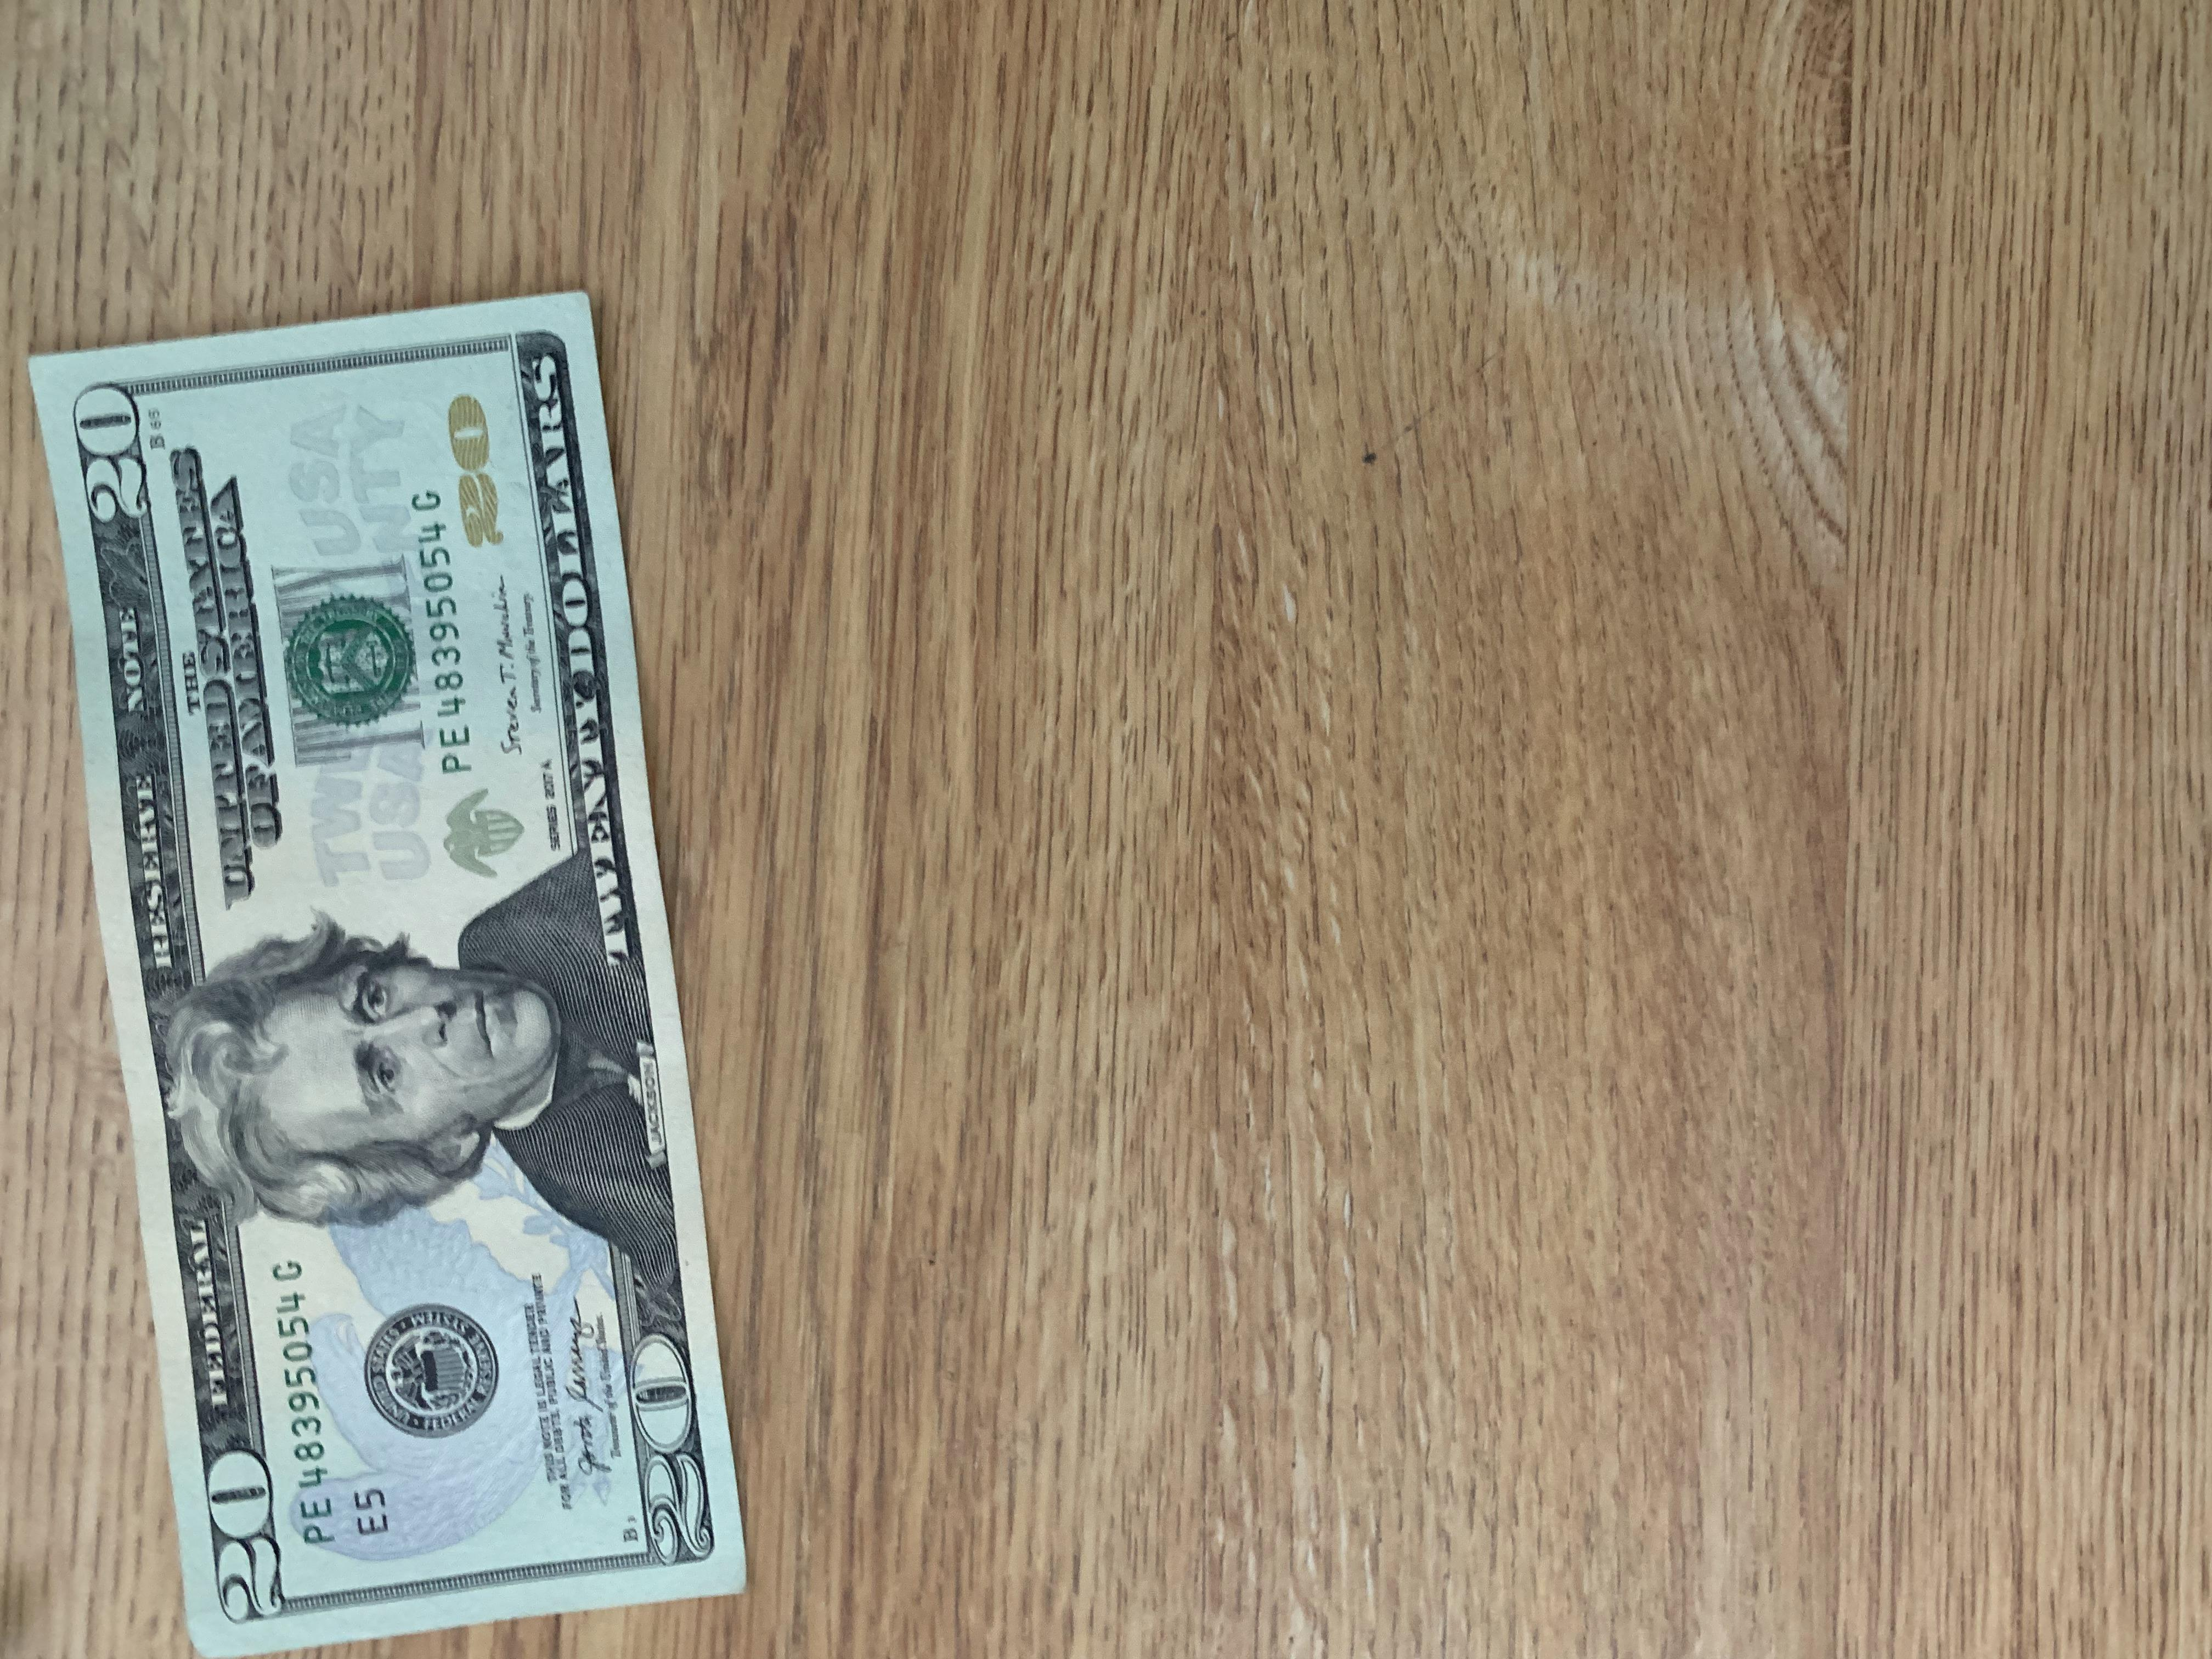TwentyBill: (26, 286, 740, 1657)
